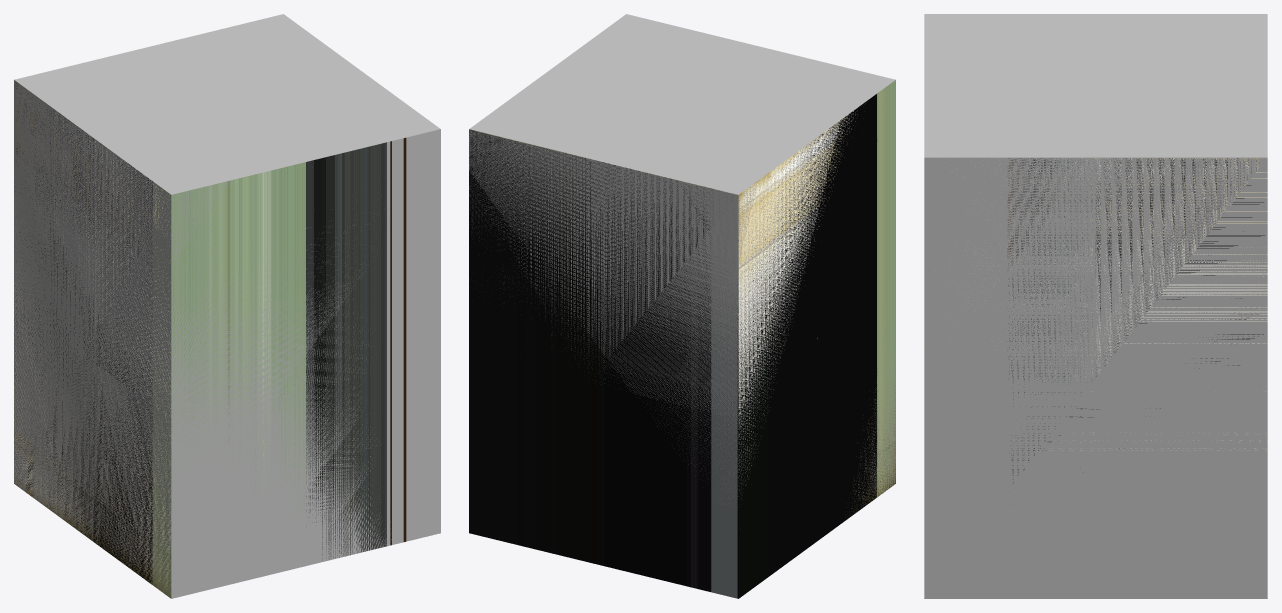
The model's file is washing_machine.DAE.
3 renders of one model, left to right at view 1: azimuth 30°, elevation 25°; view 2: azimuth 150°, elevation 25°; view 3: azimuth 270°, elevation 25°, orthographic. The views are drawn at different scales.
Parts seen in each view (by area): view 1: bounds, colbox-1, wash_machine100; view 2: colbox-1, bounds, wash_machine100; view 3: bounds, colbox-1, wash_machine100.
Boxes of the visible parts, x1,y1,x2,y2 form: bounds: (14,14,440,598); colbox-1: (14,88,406,598); wash_machine100: (14,82,439,597); colbox-1: (469,80,895,598); bounds: (469,14,895,504); wash_machine100: (469,111,895,512); bounds: (924,14,1267,598); colbox-1: (1007,158,1264,482); wash_machine100: (925,158,1267,464).
Size of the model in its own units: 80.4 by 81.28 by 115.
